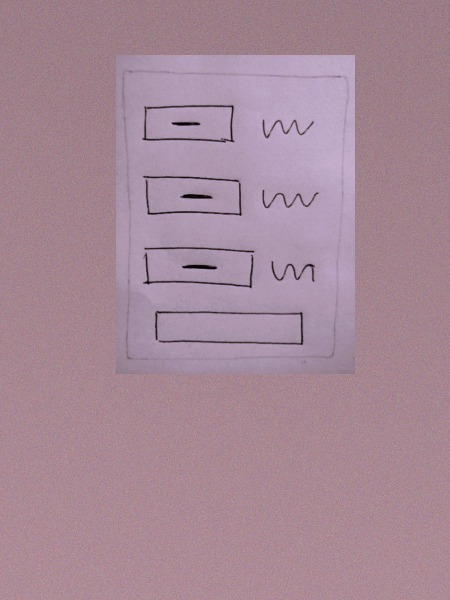button: (141, 245, 258, 295), (141, 173, 245, 223), (139, 103, 242, 149)
text: (257, 187, 321, 214), (257, 116, 316, 141), (268, 258, 320, 286)
text_input: (150, 306, 308, 351)
